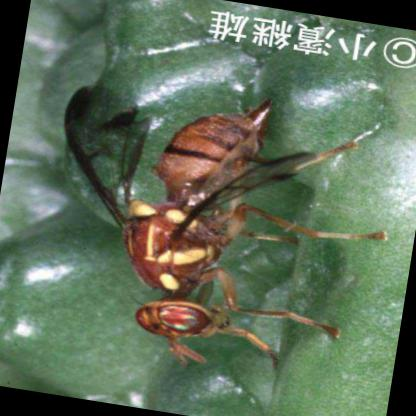fruit fly: (63, 82, 386, 369)
